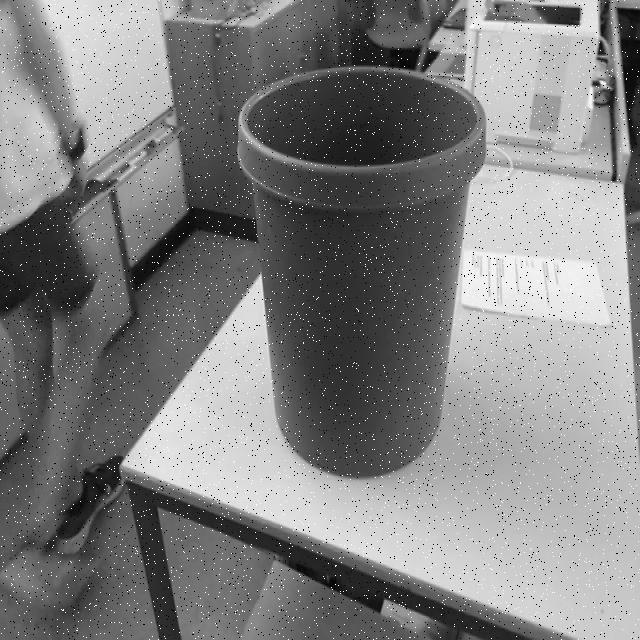garbage container: (231, 44, 512, 485)
